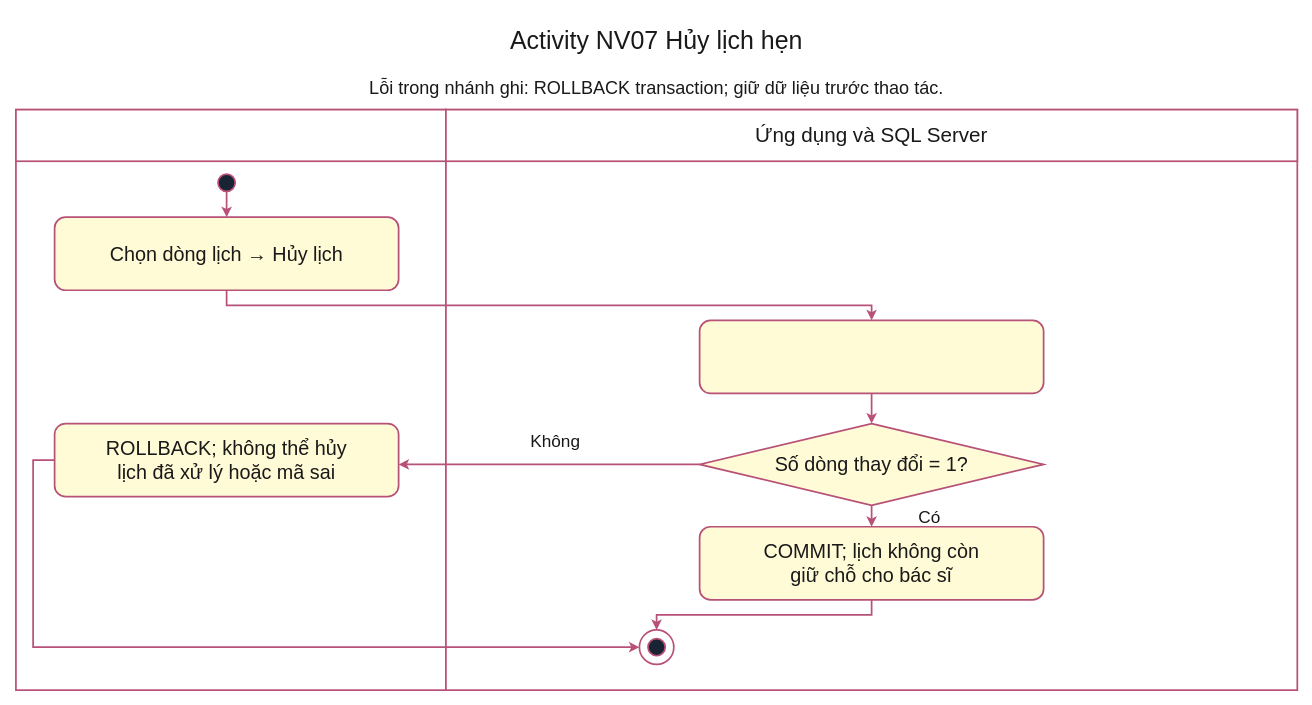
Some shapes in this 1312 by 705 pixel diagram are drawn without their labels. Each missing label, with the centre of its shape:
"Nhân viên CSKH" goes at point 230,135.
"UPDATE Đã hủy chỉ khi MaHen đúng và đang Đã hẹn" goes at point 871,356.
